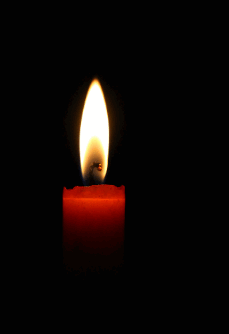Fire: (69, 71, 127, 190)
